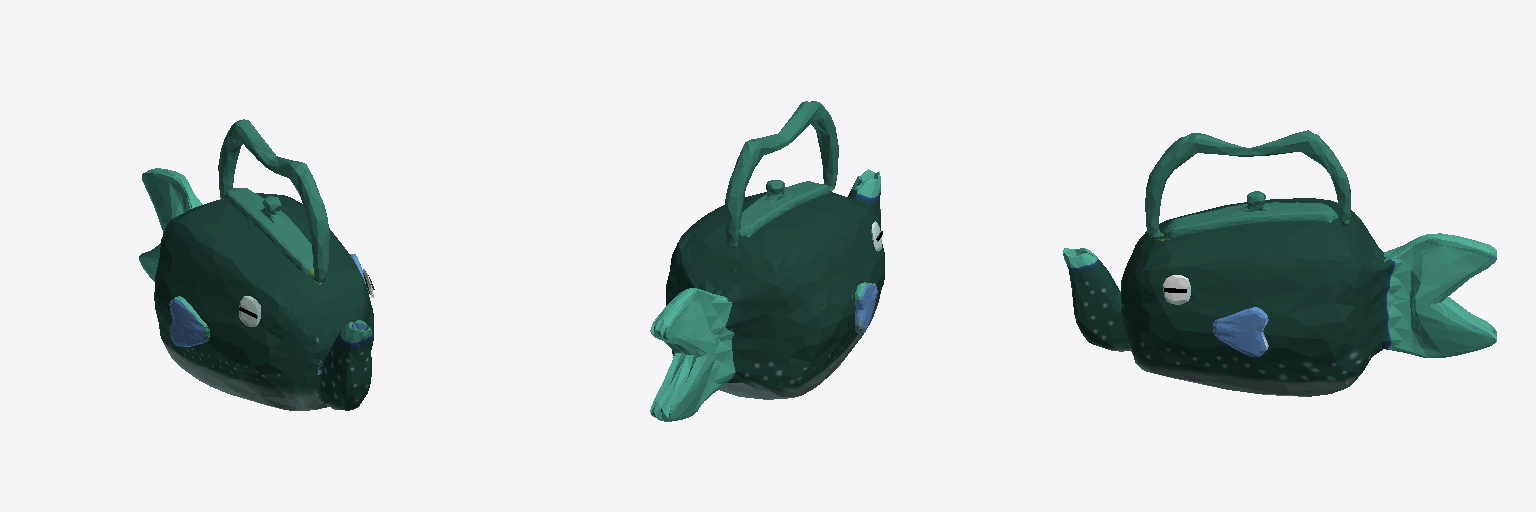
3 views of the same model, side by side, from view 1: azimuth 30°, elevation 25°; view 2: azimuth 150°, elevation 25°; view 3: azimuth 270°, elevation 25° (orthographic).
Visible parts, largest first — view 1: Cube; view 2: Cube; view 3: Cube.
Part boxes in pixels (x1,y1,x2,y2): Cube: (139, 119, 374, 410); Cube: (650, 101, 884, 421); Cube: (1063, 130, 1496, 396).
Size of the model in its own units: 5.05 by 6.67 by 10.49.
1 materials, 1 textured.